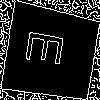E: (25, 28, 73, 70)
